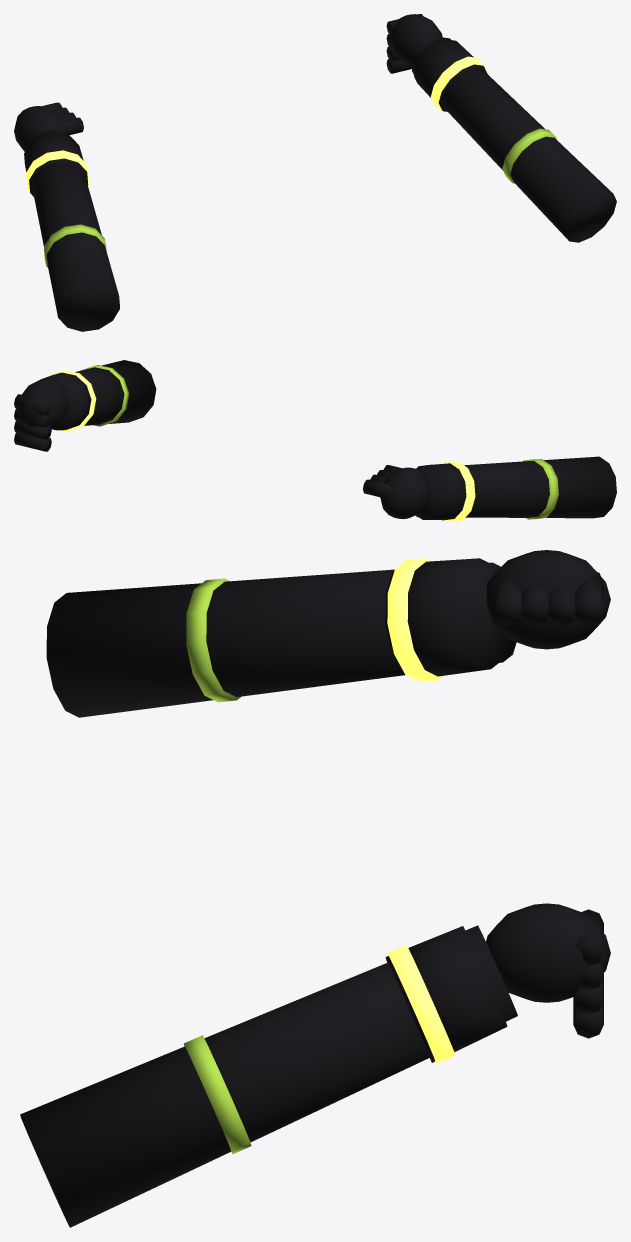
File: fp_pearl.glb
3 views of the same model, one above another, from view 1: azimuth 30°, elevation 25°; view 2: azimuth 150°, elevation 25°; view 3: azimuth 270°, elevation 25° (orthographic). The views are drawn at different scales.
Parts seen in each view (by area): view 1: ArmR, ArmL; view 2: ArmL, ArmR; view 3: ArmR, ArmL.
Boxes of the visible parts, x1,y1,x2,y2 form: ArmR: (386, 14, 616, 242); ArmL: (14, 102, 119, 331); ArmL: (363, 456, 616, 521); ArmR: (14, 360, 156, 451); ArmR: (20, 903, 610, 1227); ArmL: (46, 550, 610, 717).
Size of the model in its own units: 0.875 by 0.2171 by 0.4239.
